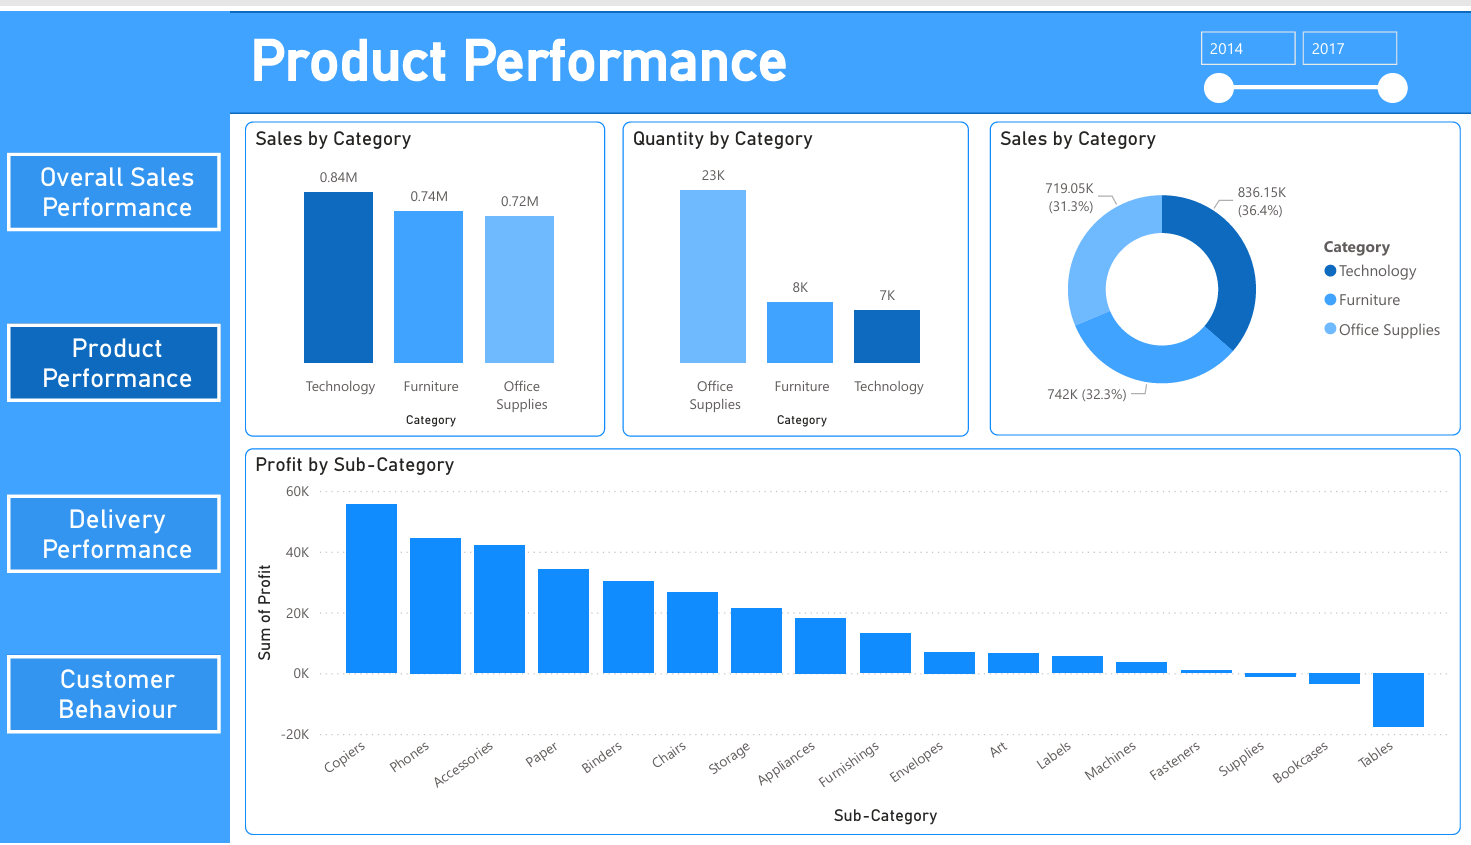

The page's visual inventory and layout, read from the dashboard file:
{"tool":"powerbi","page":{"name":"Product","canvas":[1280,720],"ordinal":2},"visuals":[{"type":"shape","box":[0,0,1280,88.3],"z":0},{"type":"textbox","title":"Product Performance","box":[213.3,13.3,915,61.7],"z":1000},{"type":"shape","box":[0,0,200,720],"z":2000},{"type":"slicer","fields":{"Values":["Result 1.Year"]},"box":[1028.3,6.7,200,76.7],"z":3000},{"type":"textbox","title":"Overall Sales Performance","box":[6.7,121.7,185,68.3],"z":4000},{"type":"textbox","title":"Product Performance","box":[6.7,270,185,68.3],"z":5000},{"type":"textbox","title":"Delivery Performance","box":[6.7,418.3,185,68.3],"z":6000},{"type":"textbox","title":"Customer Behaviour","box":[6.7,556.7,185,68.3],"z":7000},{"type":"clusteredColumnChart","title":"Sales by Category","fields":{"Y":["Sum(Retails Order Full Dataset.Sales)"],"Category":["Retails Order Full Dataset.Category"]},"box":[213.3,95,311.7,273.3],"z":8000},{"type":"clusteredColumnChart","title":"Quantity by Category","fields":{"Category":["Retails Order Full Dataset.Category"],"Y":["Sum(Retails Order Full Dataset.Quantity)"]},"box":[540,95,300,273.3],"z":9000},{"type":"clusteredColumnChart","title":"Profit by Sub-Category","fields":{"Y":["Sum(Retails Order Full Dataset.Profit)"],"Category":["Retails Order Full Dataset.Sub-Category"]},"box":[213.3,378.3,1053.3,335],"z":10000},{"type":"donutChart","title":"Sales by Category","fields":{"Y":["Sum(Retails Order Full Dataset.Sales)"],"Category":["Retails Order Full Dataset.Category"]},"box":[858.3,95,408.3,271.7],"z":11000}]}

Visuals, with their boxes in screenshot pixels (x1, y1, x2, y2), scaled from the page's 1280x720 canvas onto the 1471x845 screenshot:
shape: bbox=(0, 0, 1470, 104)
"Product Performance" textbox: bbox=(245, 16, 1297, 88)
shape: bbox=(0, 0, 230, 844)
slicer - Result 1.Year: bbox=(1182, 8, 1412, 98)
"Overall Sales Performance" textbox: bbox=(8, 143, 220, 223)
"Product Performance" textbox: bbox=(8, 317, 220, 397)
"Delivery Performance" textbox: bbox=(8, 491, 220, 571)
"Customer Behaviour" textbox: bbox=(8, 653, 220, 734)
"Sales by Category" clusteredColumnChart: bbox=(245, 111, 603, 432)
"Quantity by Category" clusteredColumnChart: bbox=(621, 111, 965, 432)
"Profit by Sub-Category" clusteredColumnChart: bbox=(245, 444, 1456, 837)
"Sales by Category" donutChart: bbox=(986, 111, 1456, 430)
